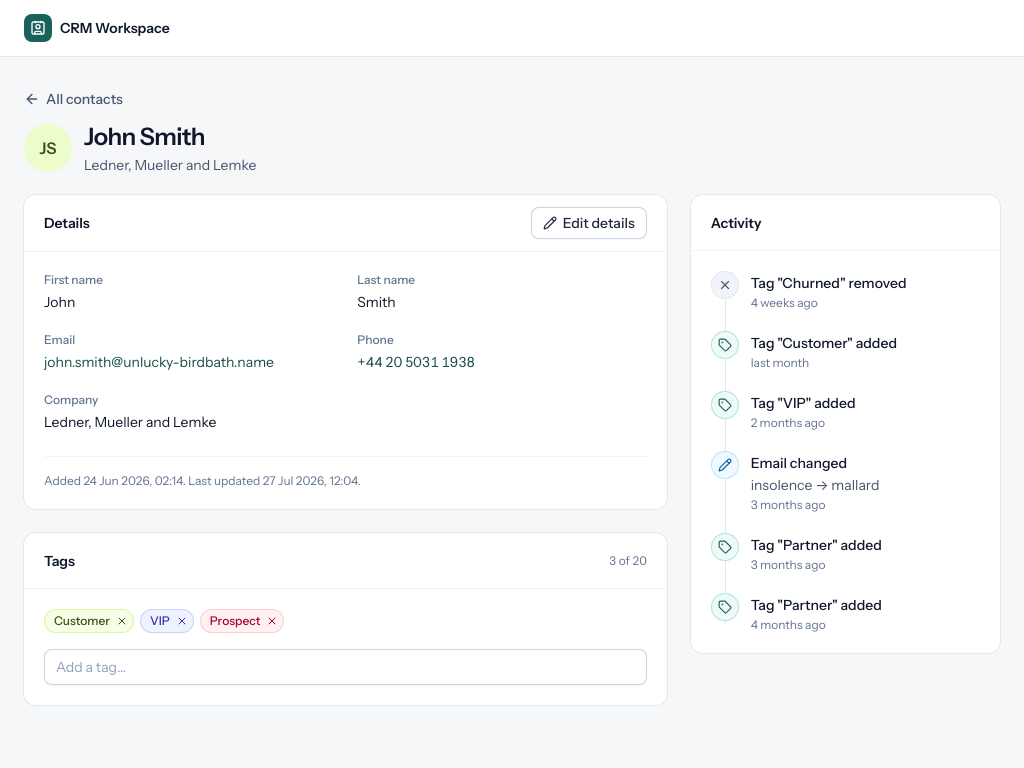
Test: TagEditor › adds an existing tag from the suggestions
Type "Partner" into the dropdown labelled "Add a tag" at (345, 667), box [44, 649, 647, 685]
Then press Enter
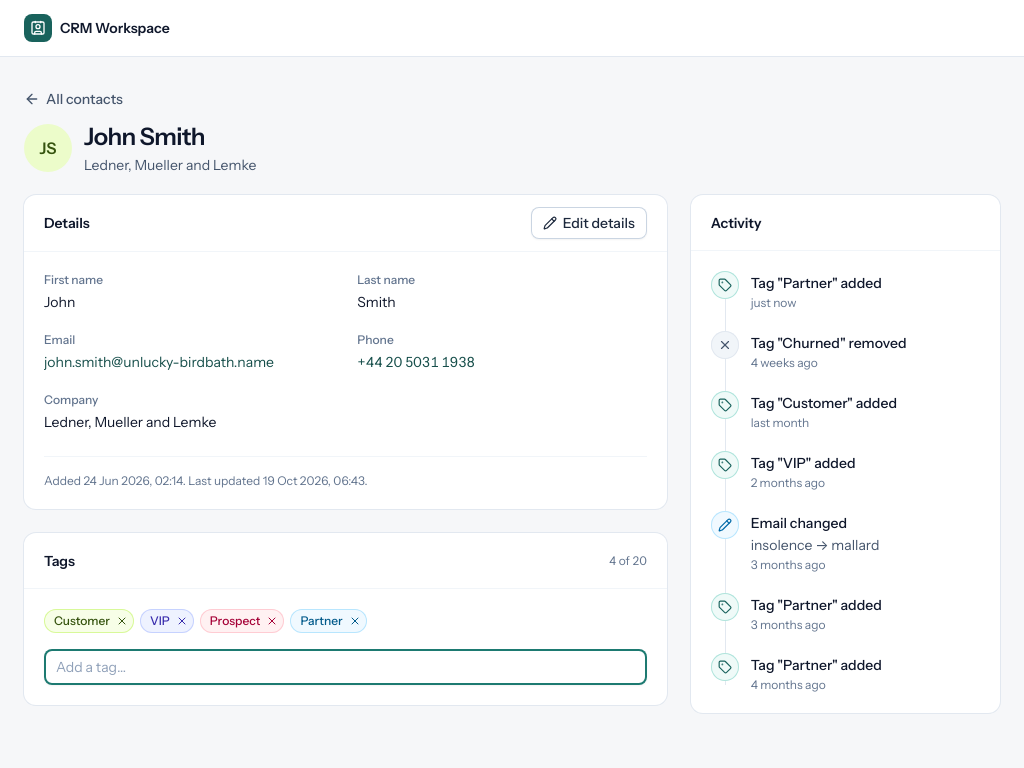
Expected: the text "Partner" is shown, [300, 613, 343, 629]
Expected: the button named "Remove tag Partner" is shown, [347, 613, 363, 629]
